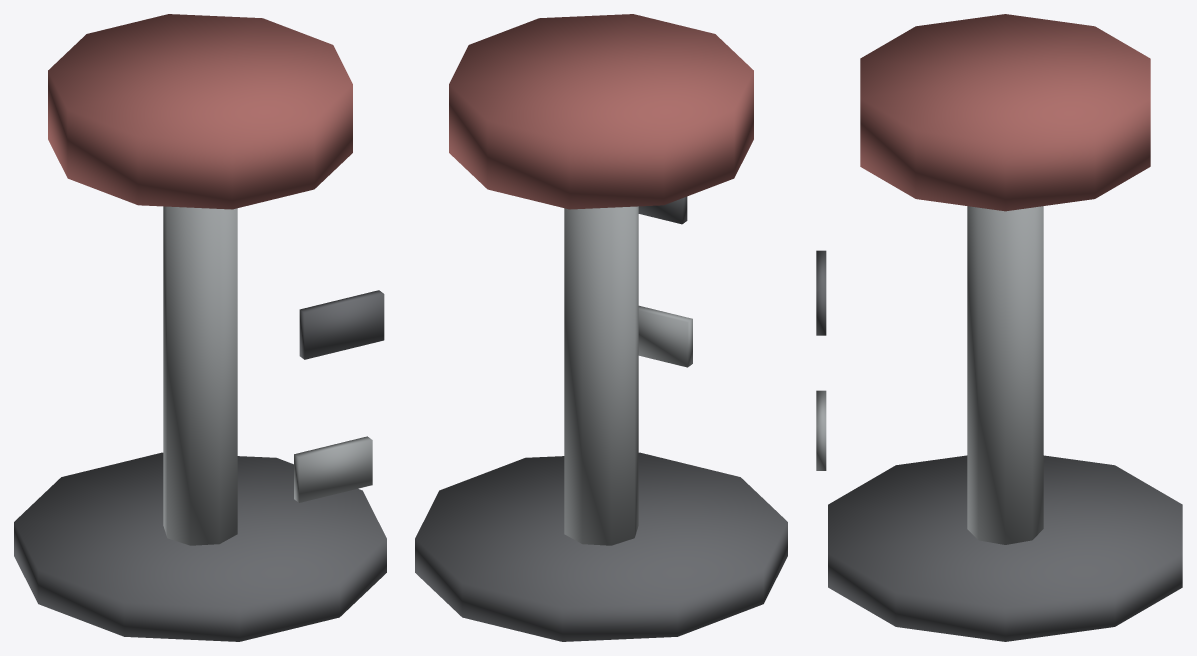
The model's file is diner_counter_stool__weathered.glb.
3 renders of one model, left to right at view 1: azimuth 30°, elevation 25°; view 2: azimuth 150°, elevation 25°; view 3: azimuth 270°, elevation 25°, orthographic.
Parts seen in each view (by area): view 1: world; view 2: world; view 3: world.
Part boxes in pixels (x1=…): world: x1=14, y1=14, x2=386, y2=641; world: x1=415, y1=14, x2=787, y2=641; world: x1=816, y1=14, x2=1182, y2=641.
Bounding box in the file's own units: 0.44 × 0.6584 × 0.4325.
